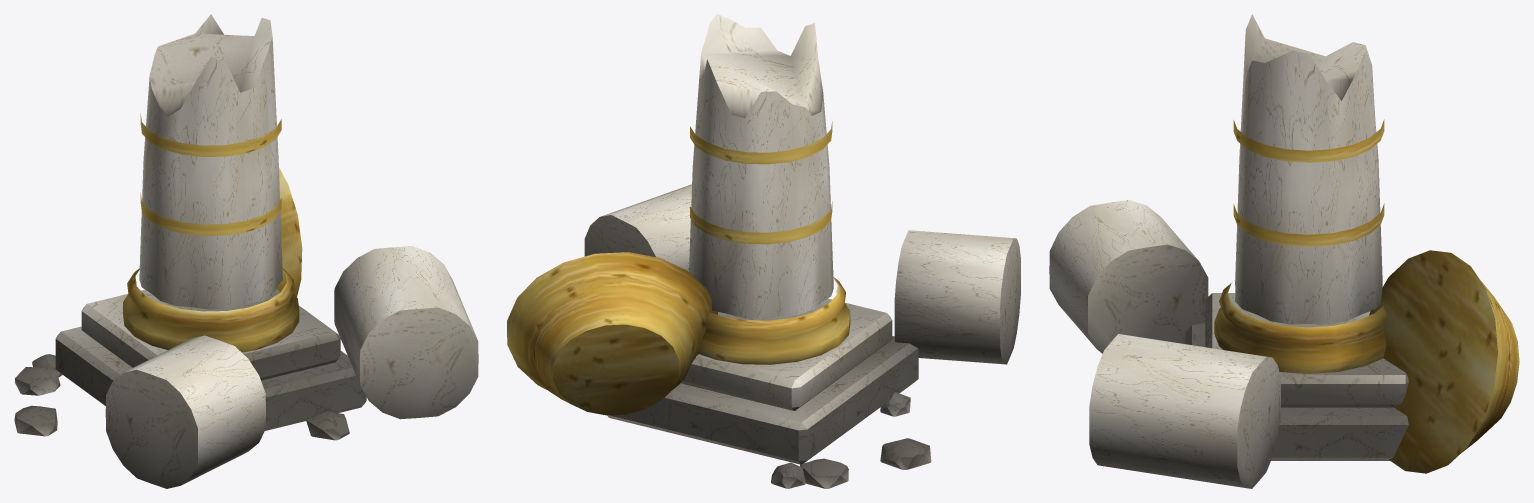
File: bifrost_column_broken.glb
3 renders of one model, left to right at view 1: azimuth 30°, elevation 25°; view 2: azimuth 150°, elevation 25°; view 3: azimuth 270°, elevation 25°, orthographic. The views are drawn at different scales.
Parts seen in each view (by area): view 1: bifrost_column_broken; view 2: bifrost_column_broken; view 3: bifrost_column_broken.
Boxes of the visible parts, left/top/right/bottom form: bifrost_column_broken: left=14, top=14, right=478, bottom=488; bifrost_column_broken: left=507, top=14, right=1020, bottom=488; bifrost_column_broken: left=1049, top=14, right=1519, bottom=488.
Size of the model in its own units: 2.13 by 1.94 by 2.09.
Materials: 2 (2 with a texture image).
